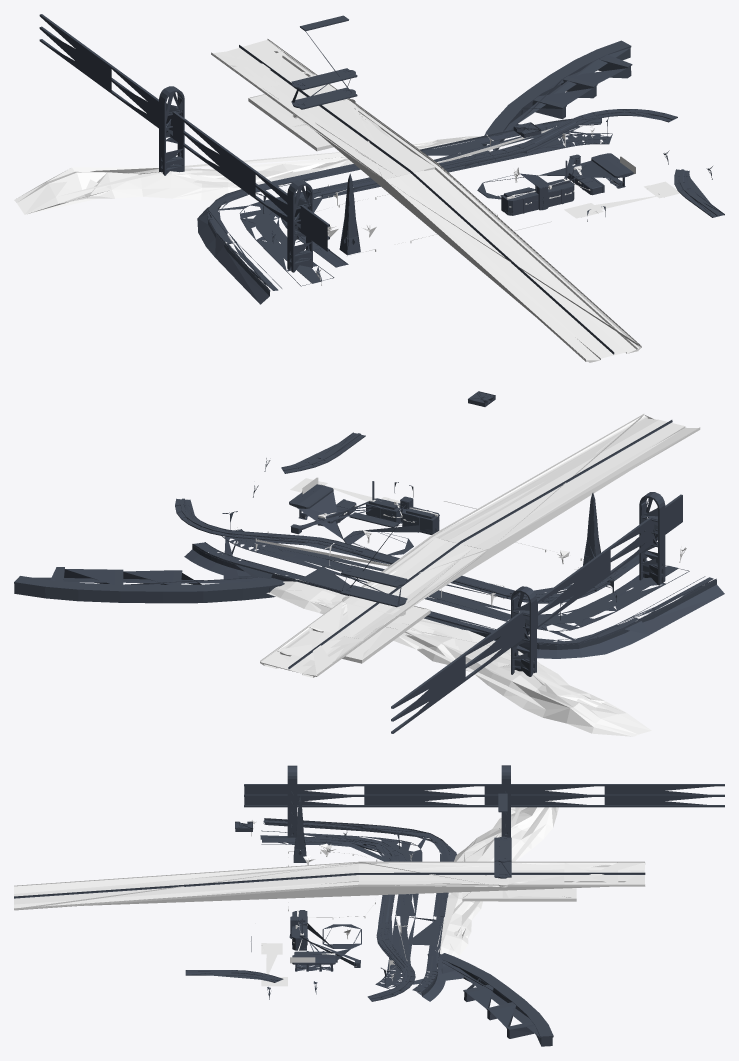
Rendered from street_island1_03.glb.
3 views of the same model, one above another, from view 1: azimuth 30°, elevation 25°; view 2: azimuth 150°, elevation 25°; view 3: azimuth 270°, elevation 25° (orthographic). The views are drawn at different scales.
Visible parts, largest first — view 1: seg_607, seg_675, seg_681, seg_683, seg_1337, seg_689, seg_1307, seg_1185, seg_1338, seg_1351, seg_1377, seg_1378 (+12 smaller); view 2: seg_607, seg_675, seg_681, seg_683, seg_689, seg_1337, seg_1307, seg_1185, seg_1351, seg_1338, seg_1377, seg_1082 (+11 smaller); view 3: seg_607, seg_1307, seg_675, seg_681, seg_689, seg_1351, seg_1338, seg_683, seg_1349, seg_1350, seg_1337, seg_603 (+12 smaller).
Boxes of the visible parts, x1,y1,x2,y2 form: seg_607: [211, 39, 641, 362]; seg_675: [14, 136, 478, 214]; seg_681: [481, 40, 632, 150]; seg_683: [197, 185, 334, 304]; seg_1337: [477, 153, 633, 215]; seg_689: [278, 118, 612, 198]; seg_1307: [211, 39, 640, 359]; seg_1185: [291, 15, 357, 109]; seg_1338: [183, 119, 257, 198]; seg_1351: [39, 14, 113, 93]; seg_1377: [287, 180, 312, 272]; seg_1378: [159, 86, 184, 175]; seg_607: [260, 414, 700, 677]; seg_675: [266, 579, 651, 736]; seg_681: [14, 567, 294, 603]; seg_683: [488, 565, 724, 658]; seg_689: [184, 529, 510, 637]; seg_1337: [289, 484, 439, 555]; seg_1307: [260, 414, 700, 674]; seg_1185: [341, 512, 407, 607]; seg_1351: [391, 653, 465, 733]; seg_1338: [537, 547, 610, 627]; seg_1377: [639, 492, 665, 585]; seg_1082: [237, 532, 513, 598]; seg_607: [14, 862, 645, 910]; seg_1307: [14, 861, 644, 908]; seg_675: [435, 800, 558, 958]; seg_681: [427, 953, 553, 1046]; seg_689: [375, 892, 463, 1001]; seg_1351: [604, 784, 724, 807]; seg_1338: [364, 784, 484, 807]; seg_683: [260, 818, 456, 861]; seg_1349: [244, 784, 364, 807]; seg_1350: [484, 784, 604, 807]; seg_1337: [289, 910, 361, 967]; seg_603: [14, 872, 645, 898].
Size of the model in its own units: 447 by 91.54 by 534.
